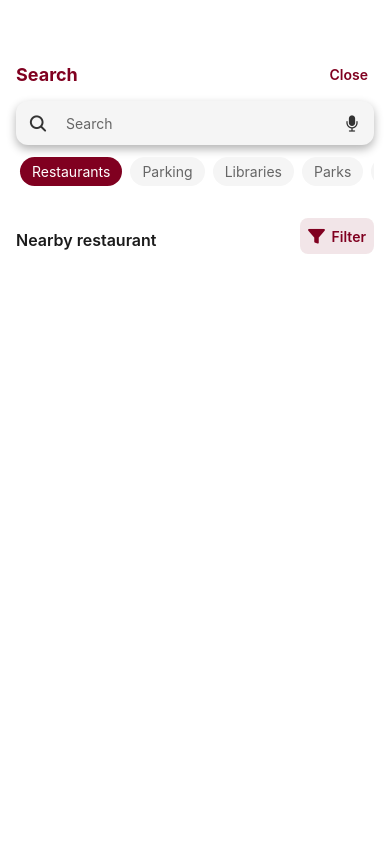
Test: SearchPanel › closes distance filter modal by pressing backdrop
The image size is (390, 844).
Click the element with test id "distance-filter-button" at (337, 236), box left=300, top=218, right=374, bottom=254
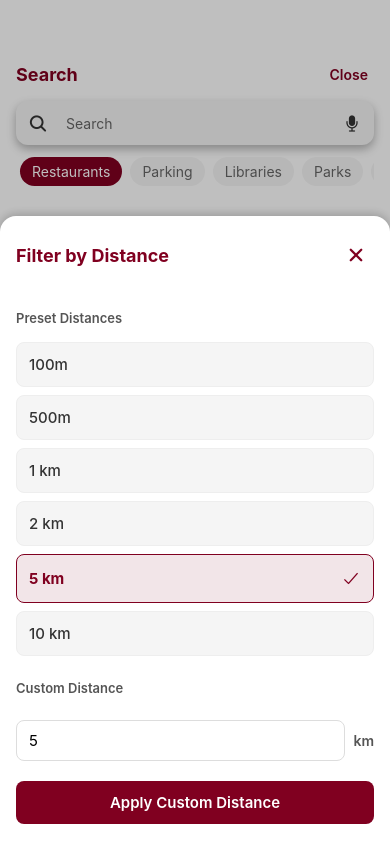
Result: the text "Filter by Distance" is shown at left=16, top=244, right=169, bottom=266
Press backdrop to close
Click the element with test id "distance-filter-backdrop" at (195, 51), box left=0, top=0, right=389, bottom=843
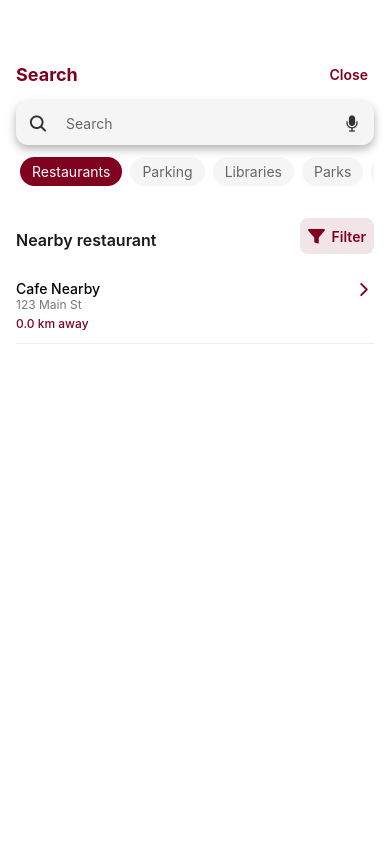
Result: the text "Filter by Distance" is gone
